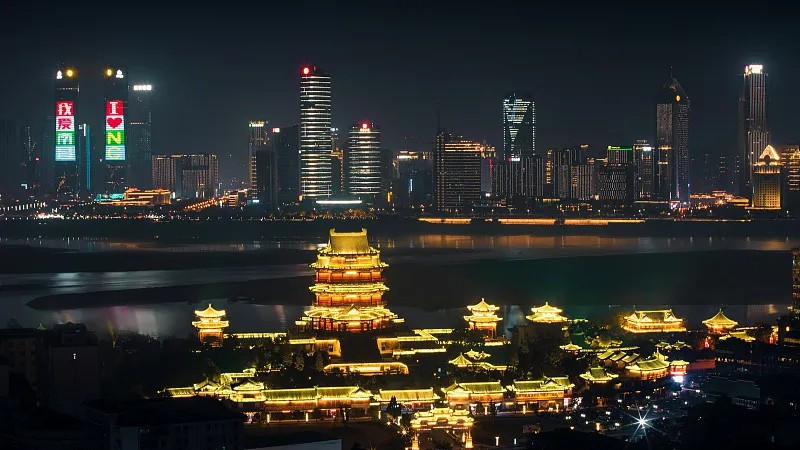Teng: (295, 227, 401, 331)
